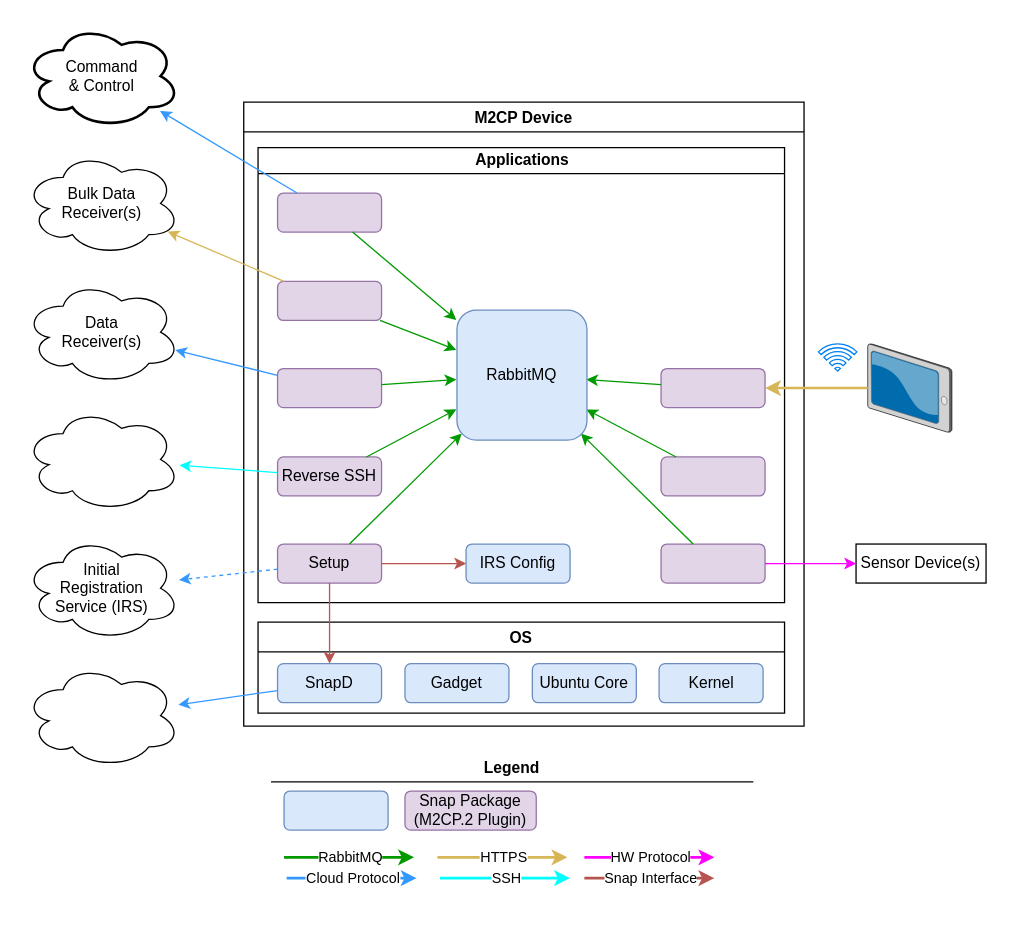
Image size: 1009x931. Some labels were removed from this diagram. The shapes that lost their labels are listed below. From the top down, each one's centre as x and y in pixels, then its label:
[329,212]: Agent
[329,300]: Persistence & Bulk Upload
[329,387]: Data Upload
[712,387]: UI
[101,459]: Reverse SSH Rendevouz
[712,476]: Transformers
[712,563]: Sensors
[101,715]: Snap Store
[335,810]: Snap Package
